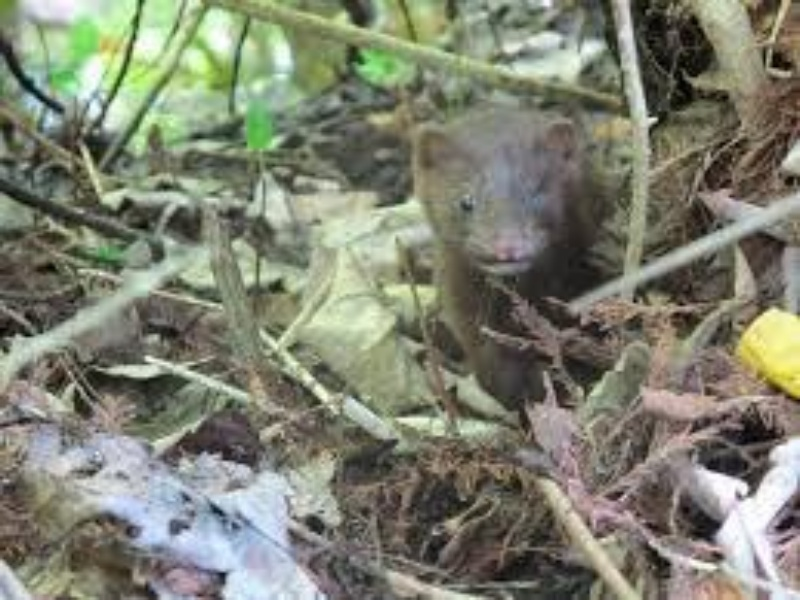minkish: (407, 99, 663, 408)
